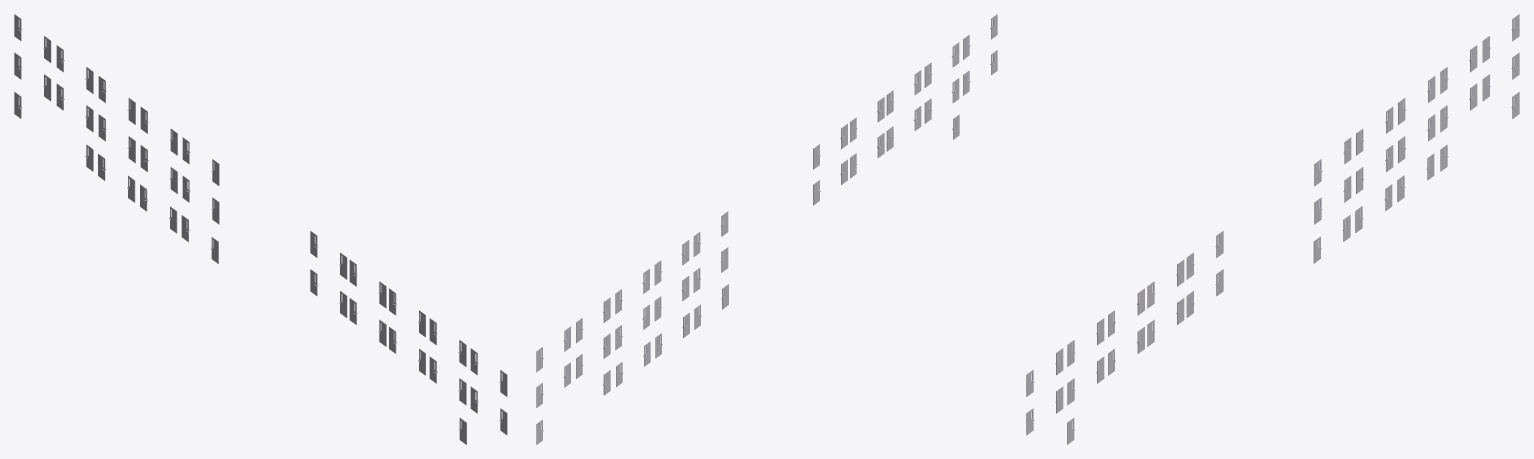
Rendered from door.glb.
3 views of the same model, side by side, from view 1: azimuth 30°, elevation 25°; view 2: azimuth 150°, elevation 25°; view 3: azimuth 330°, elevation 25° (orthographic). The views are drawn at different scales.
Bounding box in the file's own units: 0.7963 × 19.35 × 173.
